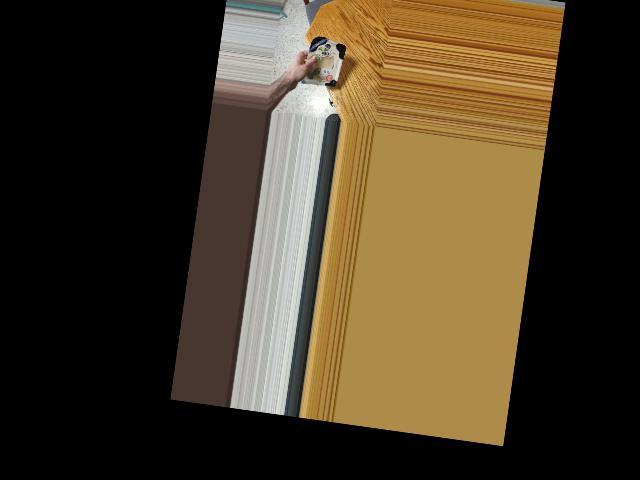cheese: (300, 33, 342, 94)
